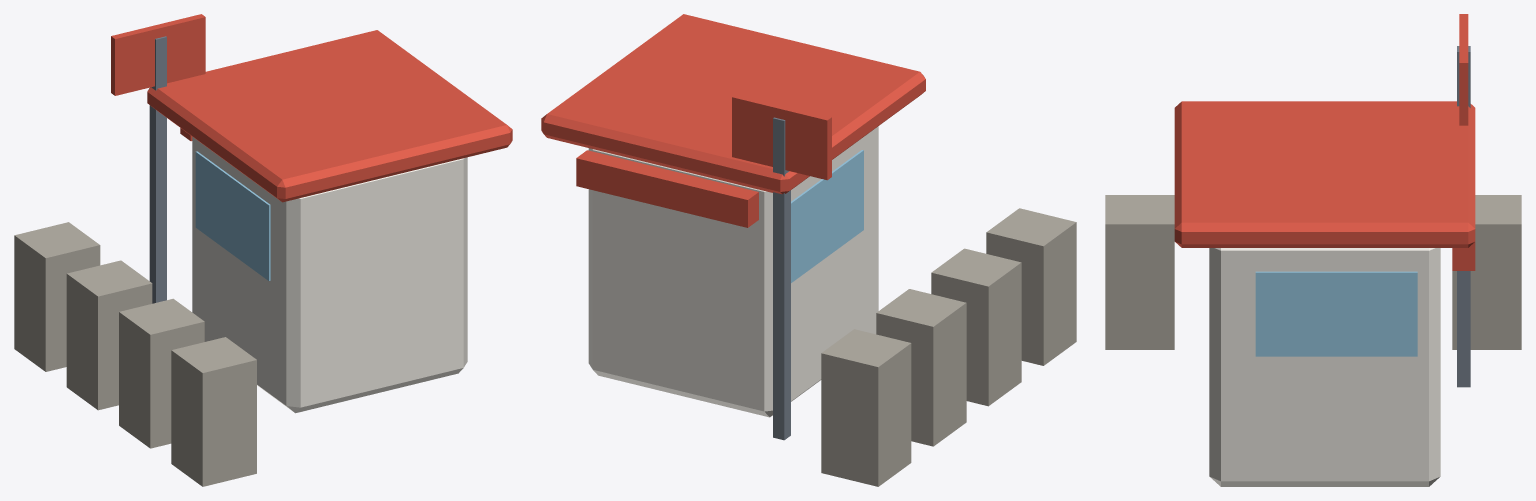
Rendered from checkpoint.glb.
3 renders of one model, left to right at view 1: azimuth 30°, elevation 25°; view 2: azimuth 150°, elevation 25°; view 3: azimuth 270°, elevation 25°, orthographic. The views are drawn at different scales.
Visible parts, largest first — view 1: checkpoint; view 2: checkpoint; view 3: checkpoint.
Boxes of the visible parts, x1,y1,x2,y2 form: checkpoint: (14,14,512,486); checkpoint: (541,14,1076,486); checkpoint: (1105,14,1521,486).
Size of the model in its own units: 1.9 by 1.65 by 1.8.
1 material, 1 textured.
